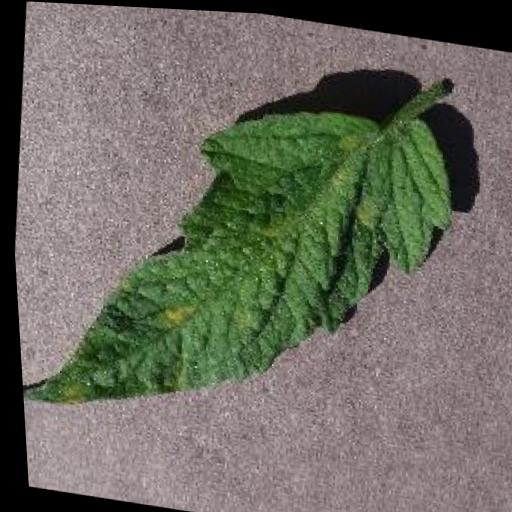Leaf Mold: (3, 59, 471, 463)
